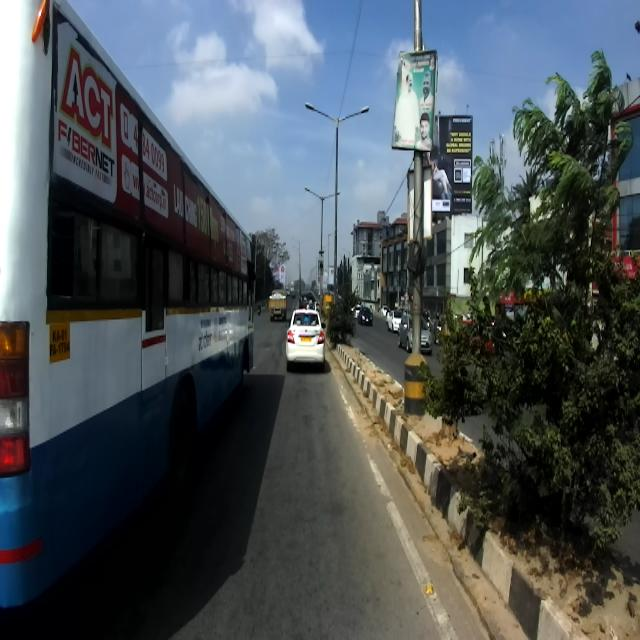car ahead at: (280, 303, 330, 384)
